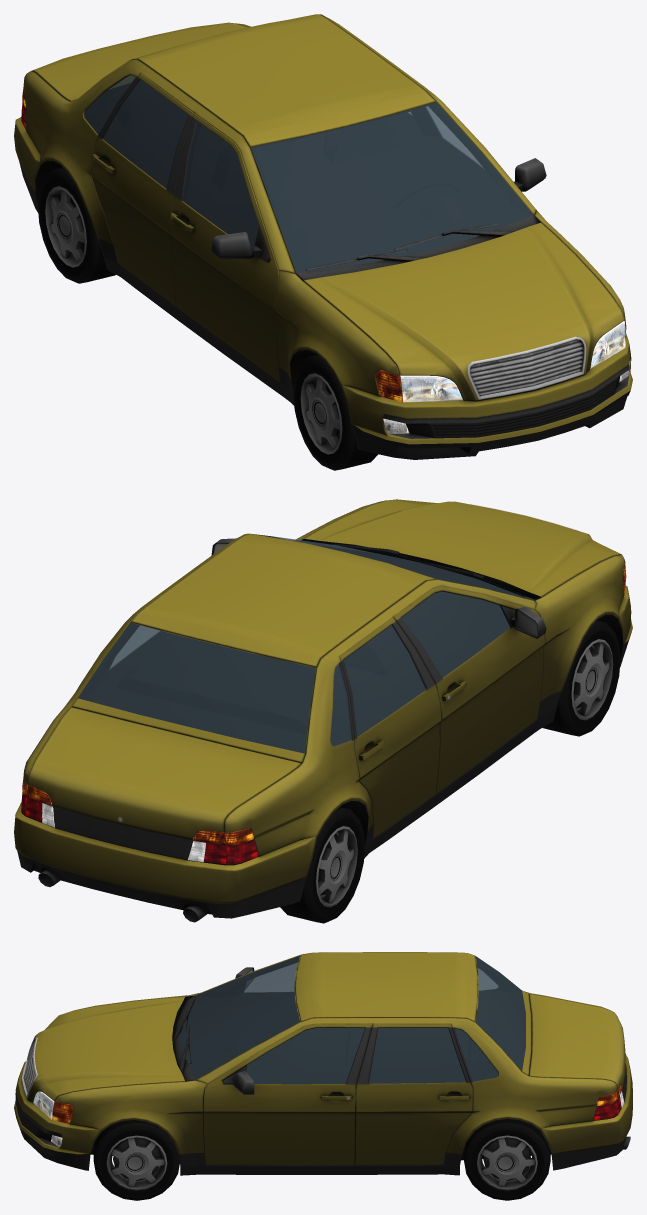
File: road-sedan.glb
The picture shows the model from 3 angles, top to bottom: view 1: azimuth 30°, elevation 25°; view 2: azimuth 150°, elevation 25°; view 3: azimuth 270°, elevation 25°; orthographic projection. The views are drawn at different scales.
Visible parts, largest first — view 1: Body, Wheel_FR, Wheel_RR; view 2: Body, Wheel_RR, Wheel_FR; view 3: Body, Wheel_RL, Wheel_FL.
Part boxes in pixels (left/top/right/bottom): Body: left=14, top=14, right=632, bottom=459; Wheel_FR: left=293, top=354, right=377, bottom=470; Wheel_RR: left=38, top=167, right=115, bottom=283; Body: left=14, top=499, right=632, bottom=922; Wheel_RR: left=280, top=807, right=364, bottom=923; Wheel_FR: left=543, top=620, right=620, bottom=736; Body: left=14, top=952, right=632, bottom=1175; Wheel_RL: left=464, top=1119, right=550, bottom=1200; Wheel_FL: left=93, top=1120, right=179, bottom=1200.
Size of the model in its own units: 2.05 by 1.42 by 4.6.
Materials: 5 (4 with a texture image).
